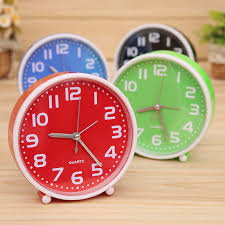alarm_clock: (8, 60, 199, 202), (8, 70, 199, 202), (8, 70, 136, 202), (7, 72, 137, 201), (7, 77, 137, 201), (18, 77, 137, 201)
